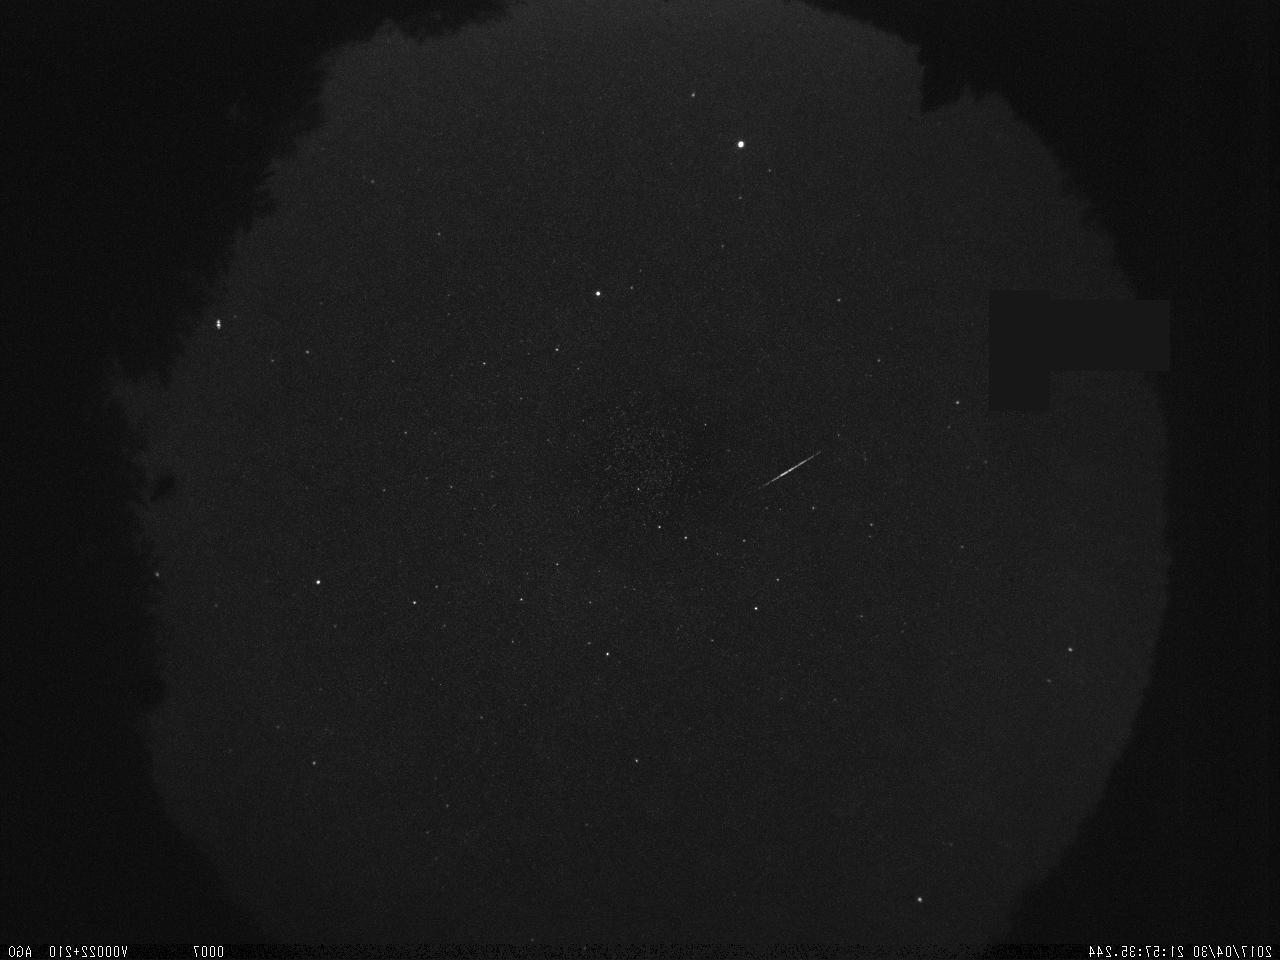meteor: (753, 436, 836, 498)
